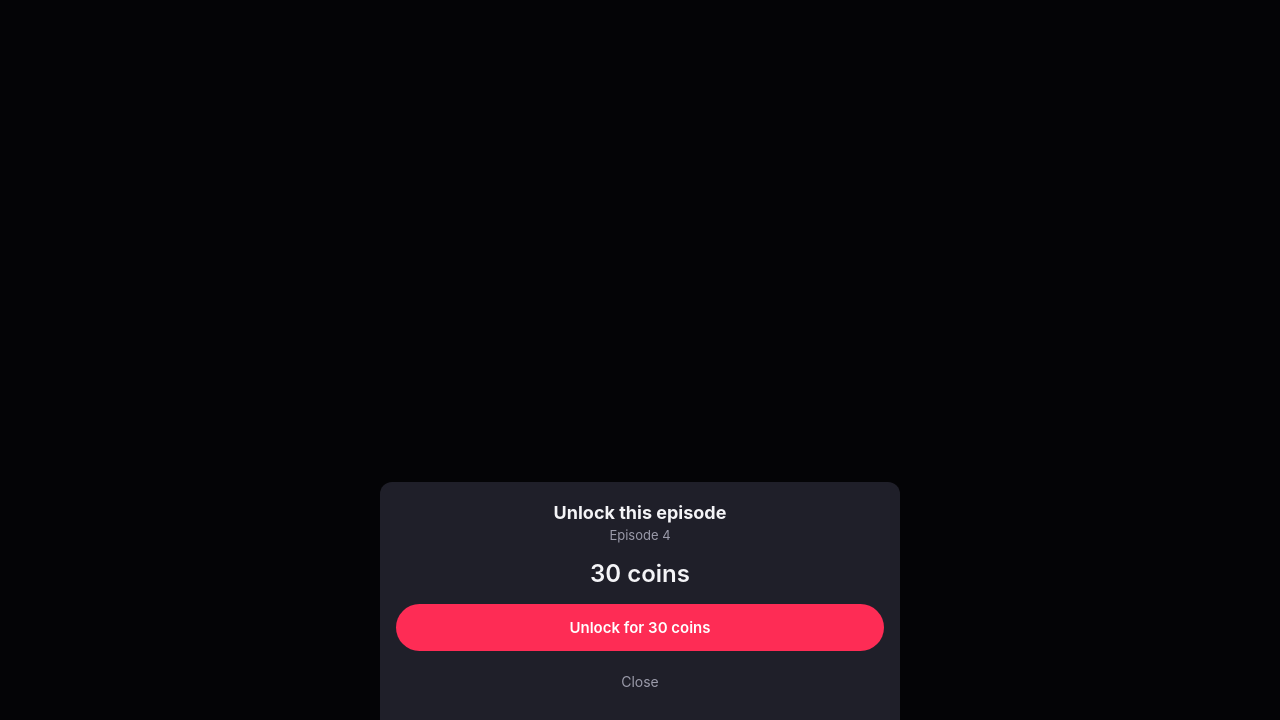
Test: what the panel says after a purchase › says nothing was charged when the viewer dismissed the payment sheet
The image size is (1280, 720).
Click the button with test id "unlock-confirm" at (640, 628), box [396, 604, 884, 651]
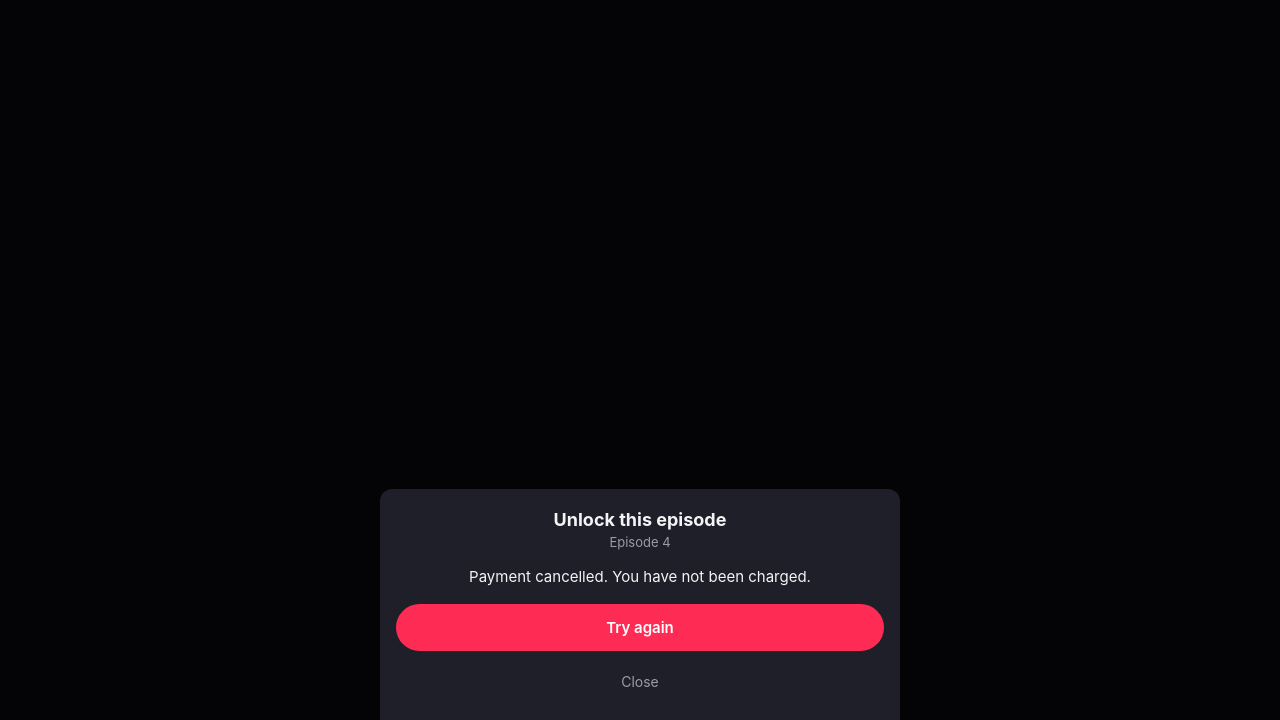
Expected: the text "Payment cancelled. You have not been charged." is shown, [469, 567, 811, 586]
Expected: the button with test id "unlock-retry" is shown, [396, 604, 884, 651]
